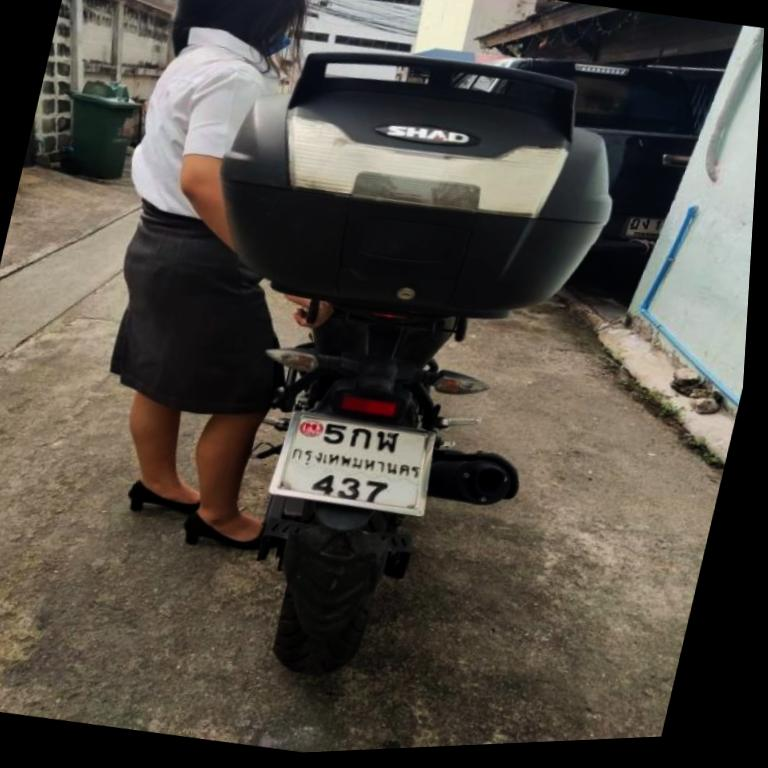license plate: (270, 412, 434, 514)
